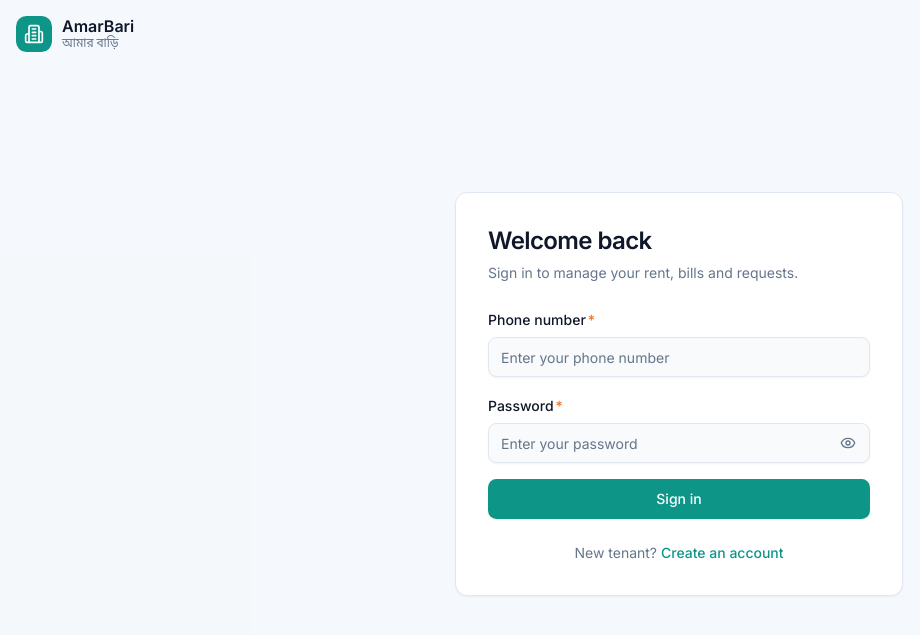
Test case: LoginPage › surfaces client-side validation before any request
The width and height of the screenshot is (920, 635).
Click the button "Sign in" at (679, 499), box [488,479,870,519]
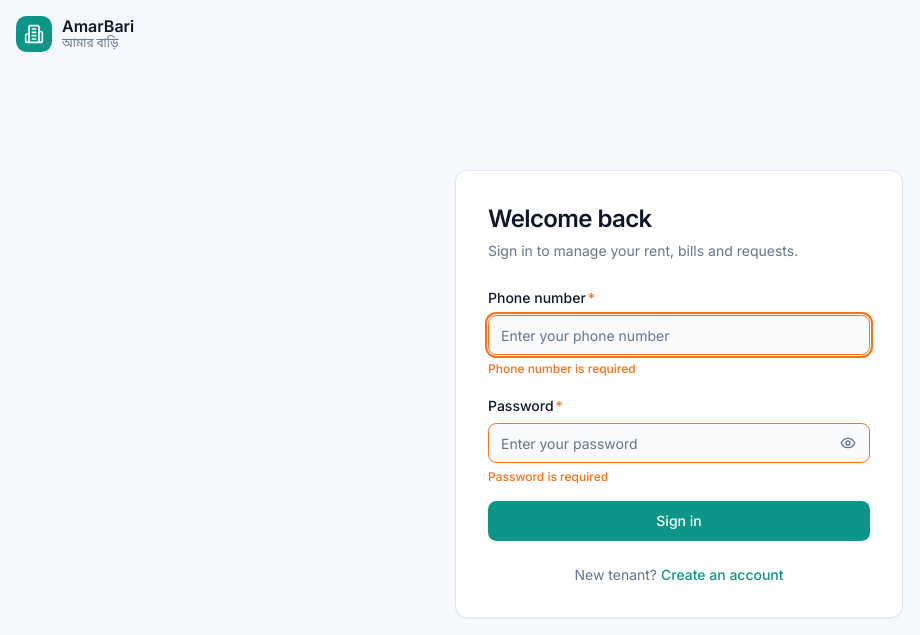
expect the text "Phone number is required" is shown: met, box [488,361,636,376]
expect the text "Password is required" is shown: met, box [488,469,608,484]
